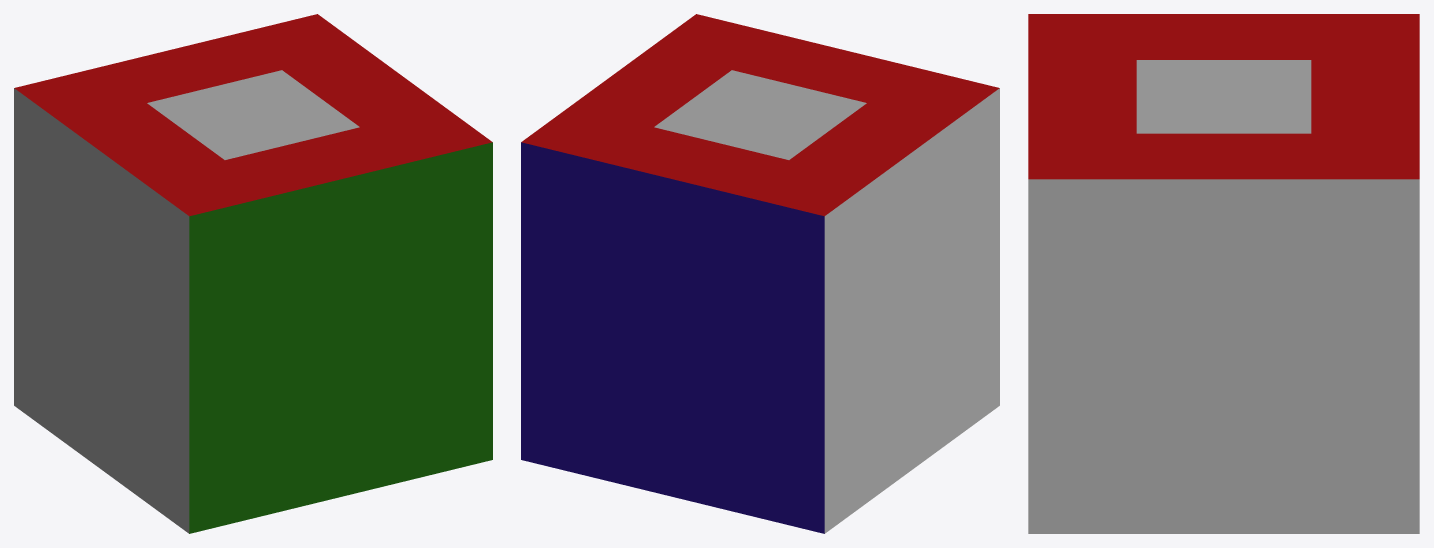
File: scene-with-light.obj
3 renders of one model, left to right at view 1: azimuth 30°, elevation 25°; view 2: azimuth 150°, elevation 25°; view 3: azimuth 270°, elevation 25°, orthographic. The views are drawn at different scales.
Parts seen in each view (by area): view 1: Cube; view 2: Cube; view 3: Cube.
Boxes of the visible parts, bbox=[...] form: Cube: bbox=[14, 14, 492, 533]; Cube: bbox=[521, 14, 999, 533]; Cube: bbox=[1028, 14, 1419, 533].
Bounding box in the file's own units: 2 × 2 × 2.
